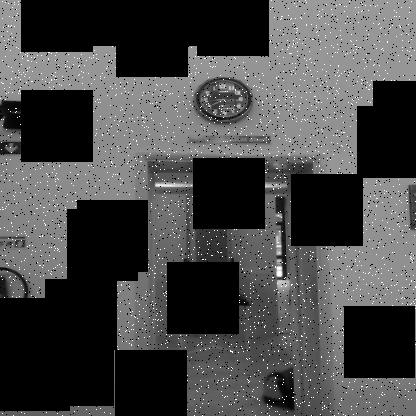Porte: (132, 151, 338, 416)
